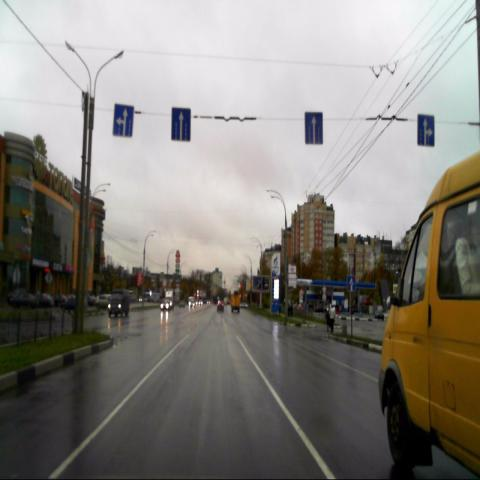5_15_2: (113, 105, 133, 136)
